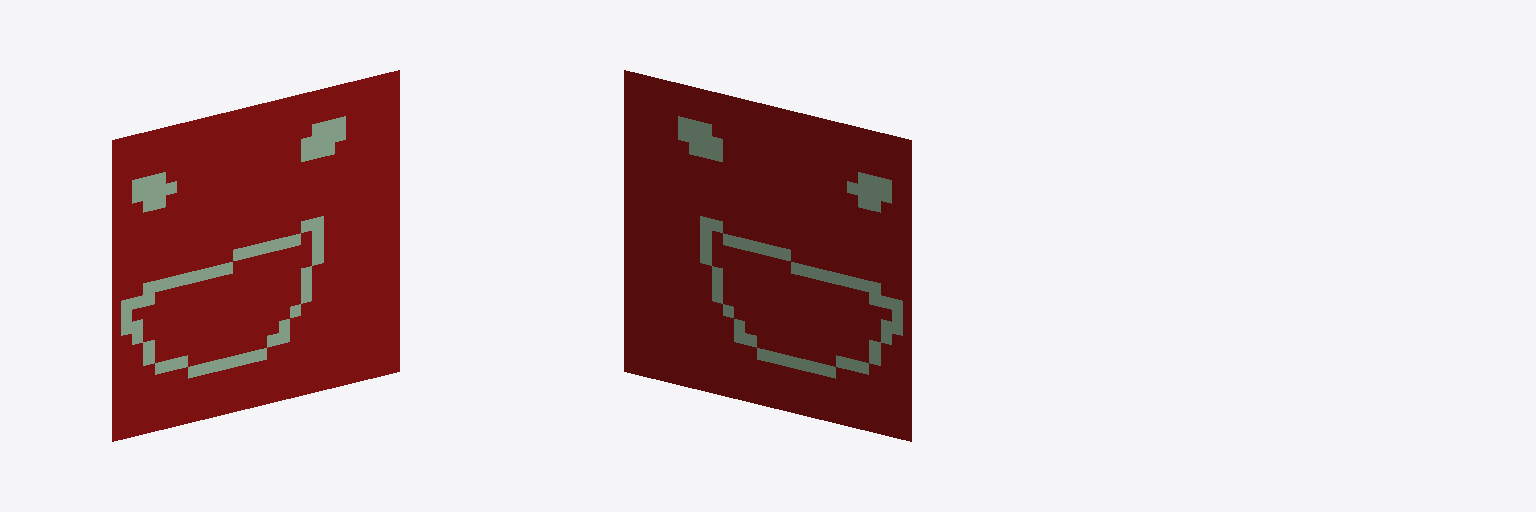
3 views of the same model, side by side, from view 1: azimuth 30°, elevation 25°; view 2: azimuth 150°, elevation 25°; view 3: azimuth 270°, elevation 25° (orthographic).
Visible parts, largest first — view 1: Plane; view 2: Plane; view 3: none.
Part boxes in pixels (left/top/right/bottom): Plane: left=112, top=70, right=399, bottom=441; Plane: left=624, top=70, right=911, bottom=441.
Size of the model in its own units: 4 by 4 by 0.
1 materials, 1 textured.